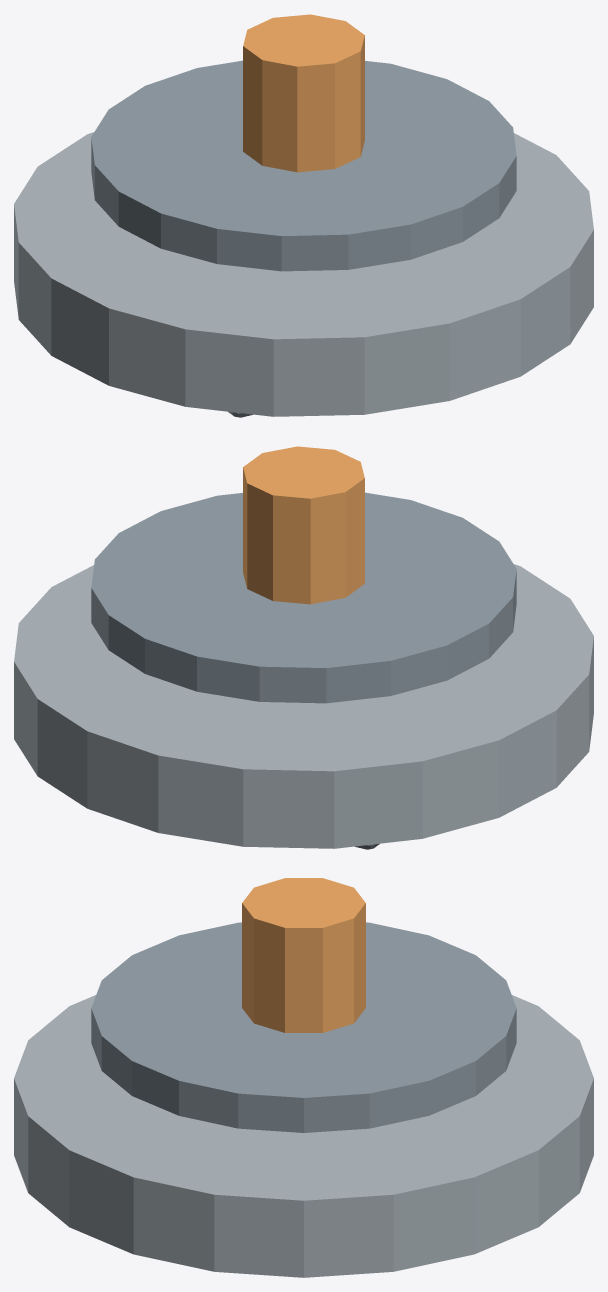
The model's file is dir_superweapon.glb.
3 views of the same model, one above another, from view 1: azimuth 30°, elevation 25°; view 2: azimuth 150°, elevation 25°; view 3: azimuth 270°, elevation 25° (orthographic).
Parts seen in each view (by area): view 1: dir_superweapon; view 2: dir_superweapon; view 3: dir_superweapon.
Boxes of the visible parts, box(x1,y1,x2,y2) form: dir_superweapon: box(14, 14, 593, 417); dir_superweapon: box(14, 446, 593, 849); dir_superweapon: box(14, 878, 593, 1277).
Size of the model in its own units: 1.5 by 0.78 by 1.5.
